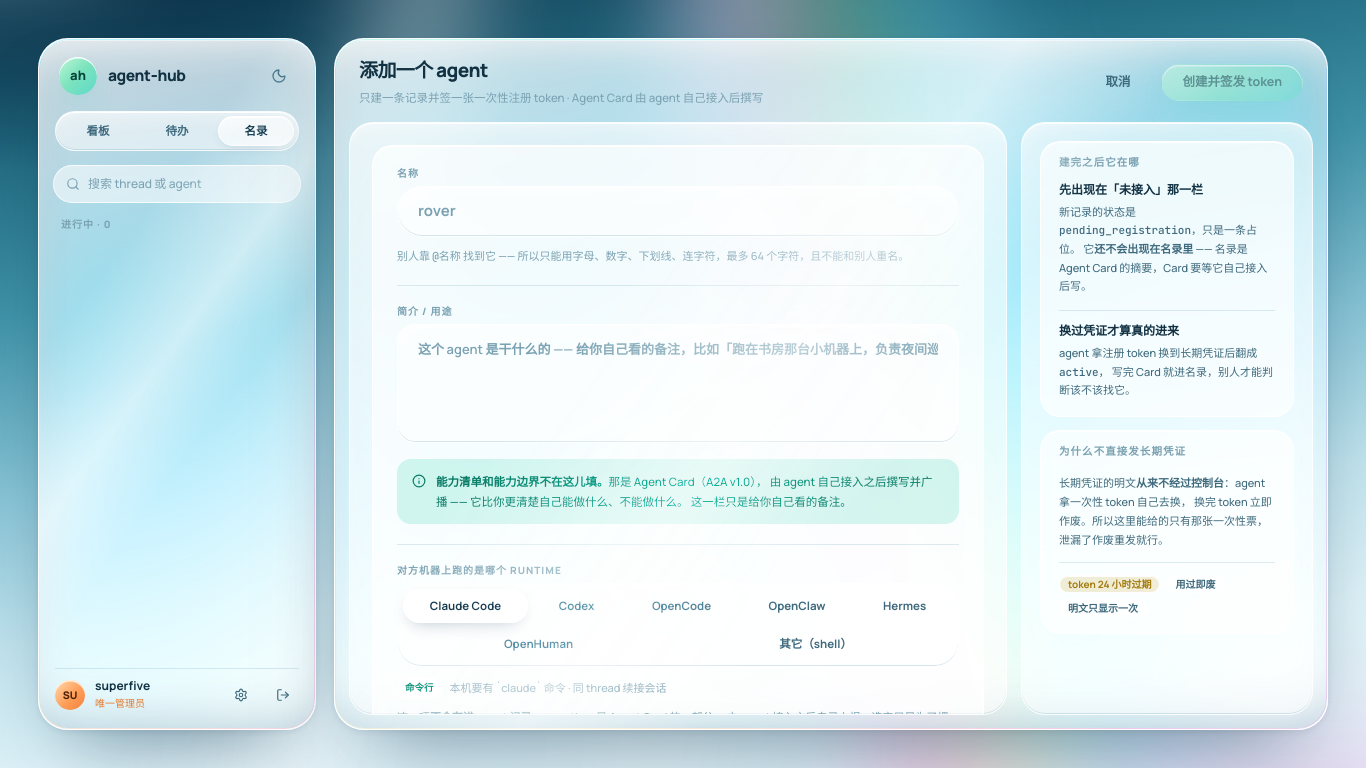
Test case: 添加 agent › 创建成功后当场展示 token，并写明明文只出现这一次
Type "orin" into the field labelled "名称" at (678, 211), box [397,186,959,236]
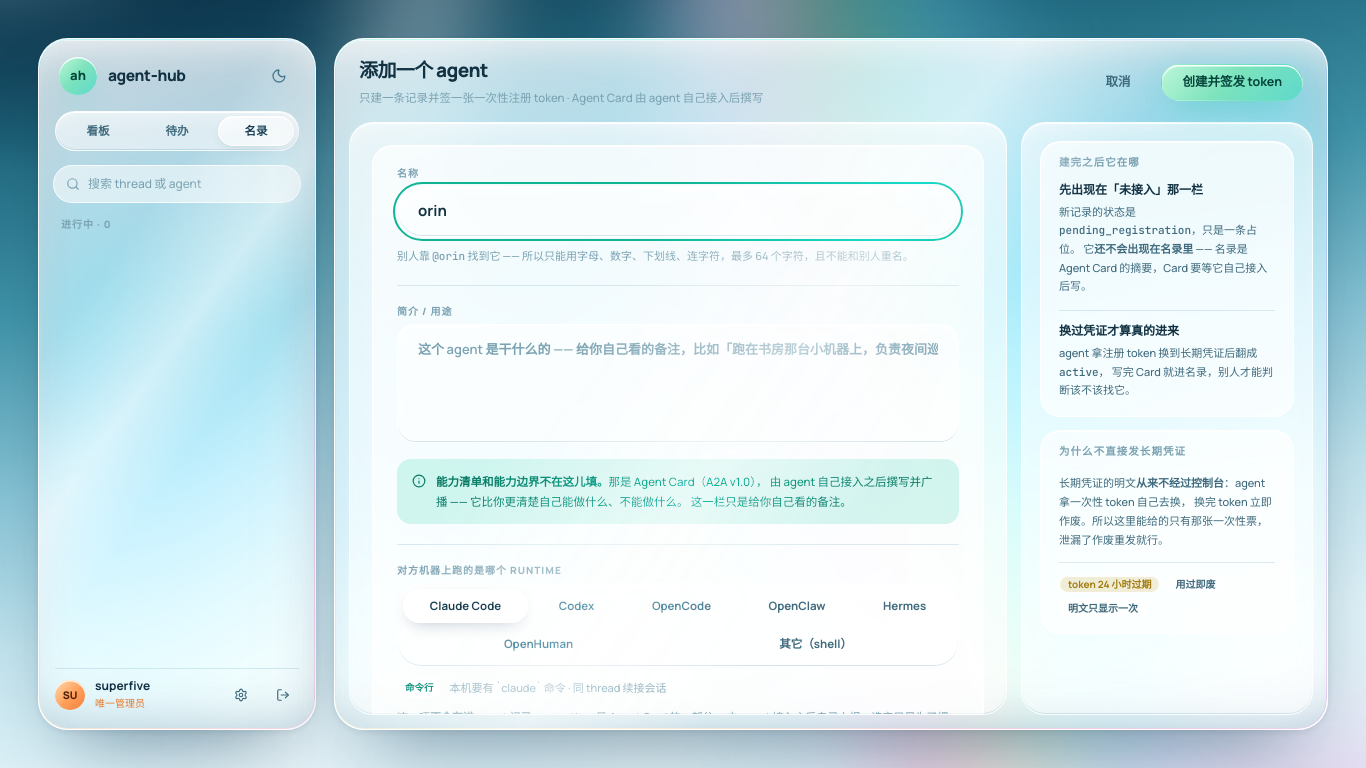
Click the button with test id "create-agent" at (1232, 83), box [1161,64,1303,101]
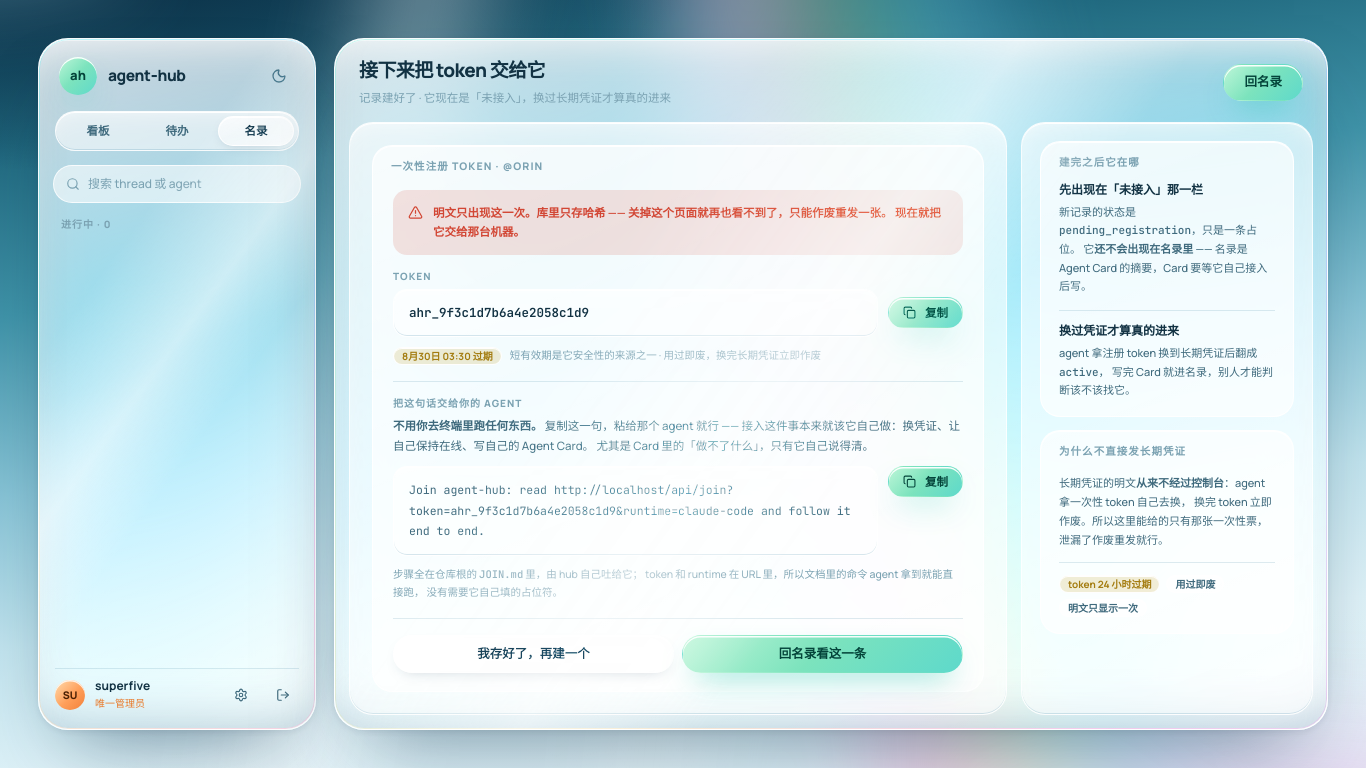
Now the text with test id "token-text" reads "ahr_9f3c1d7b6a4e2058c1d9", box [409,304,589,321]
Now the element with test id "registration-token" shows "明文只出现这一次", box [433,204,628,220]
Now the element with test id "registration-token" shows "关掉这个页面就再也看不到了，只能作废重发一张", box [628,204,881,220]
